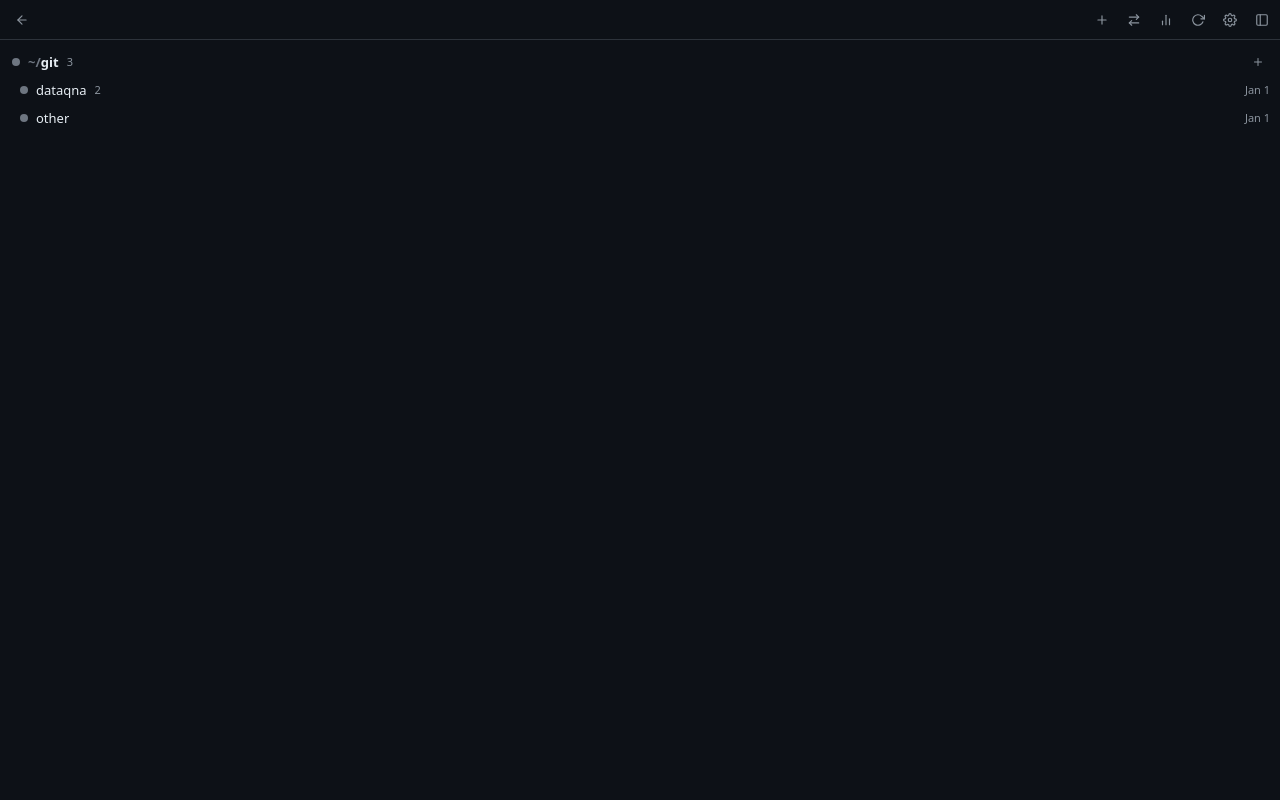
SessionTree — stopping every session in a folder › counts the folder in the item and names every session in the confirm
Step 1. Right-click the button with class "dir-header" showing "dataqna 2 Jan 1" → x=61, y=90, box top-left (0, 76), bottom-right (1279, 104)
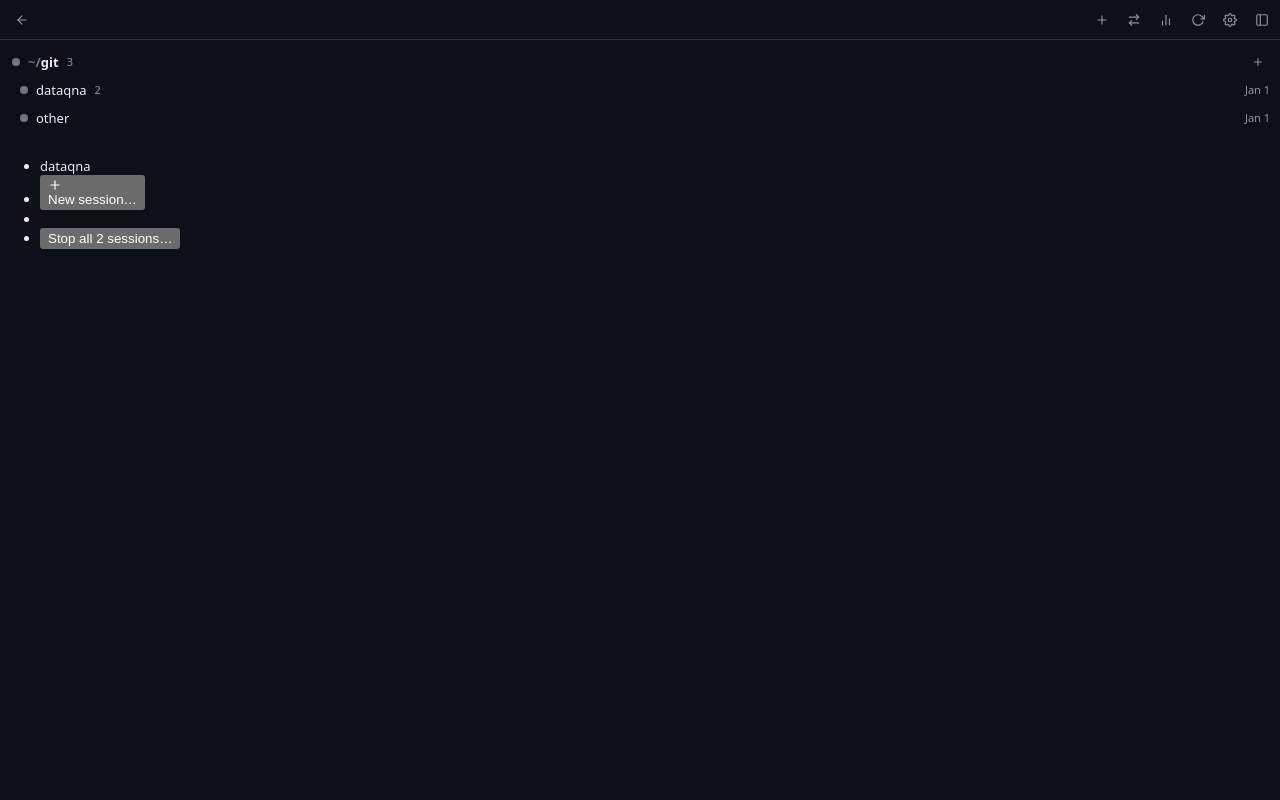
Step 2. Click the button with class "danger" → x=110, y=238, box top-left (40, 228), bottom-right (180, 249)
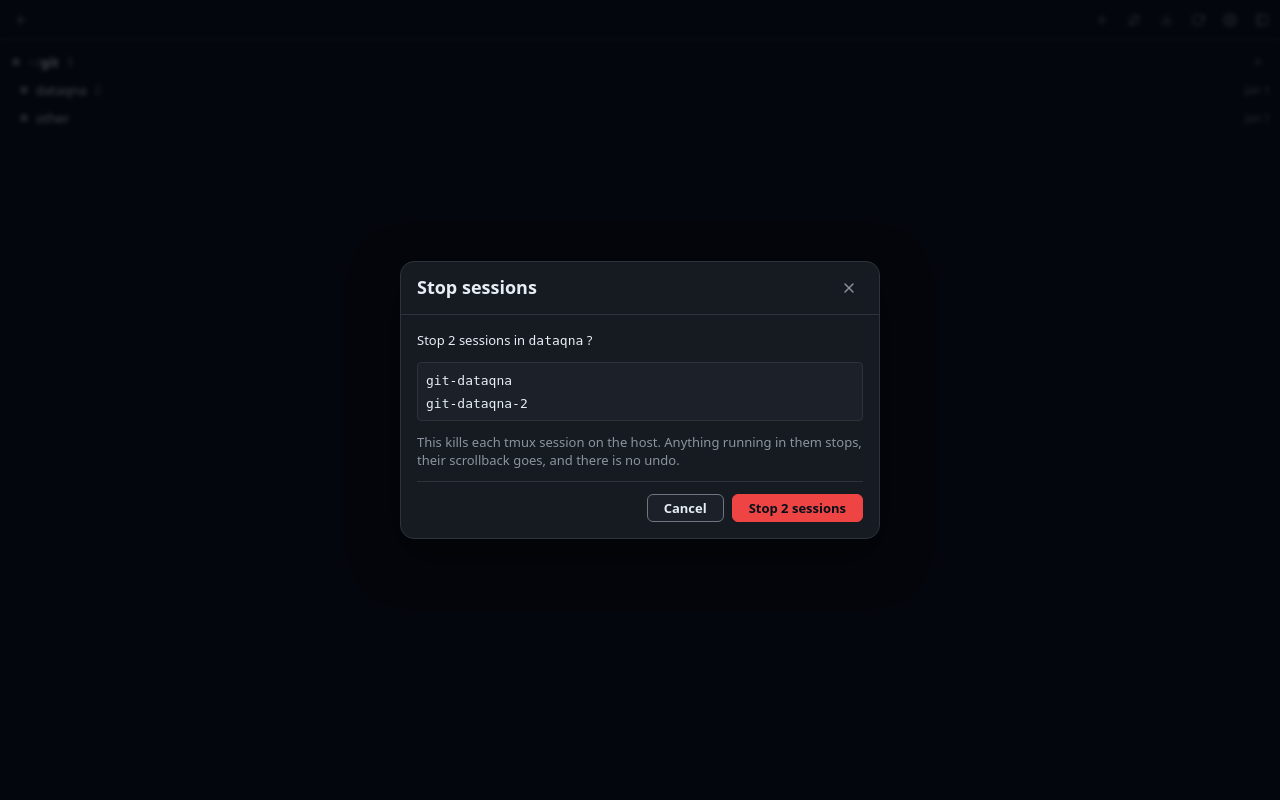
Now the element with class "stop-confirm" shows "dataqna", box top-left (528, 332), bottom-right (583, 348)
